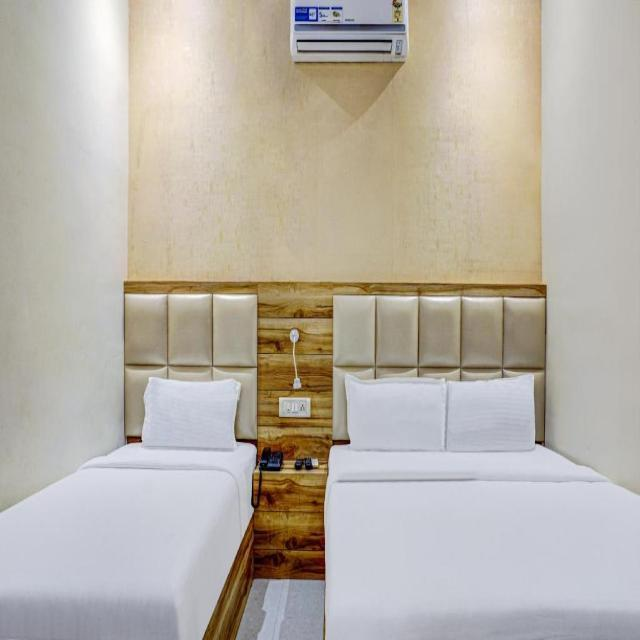bed: (0, 287, 258, 639)
sofa: (323, 287, 639, 638)
